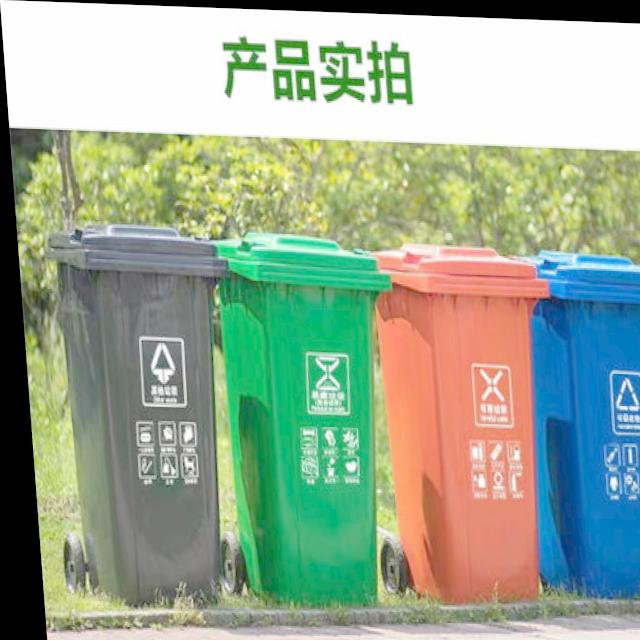garbage_bin: (40, 219, 243, 609), (207, 226, 404, 606), (366, 238, 561, 602), (512, 246, 640, 596)
